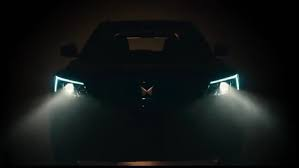XUV 400: (46, 18, 248, 166)
